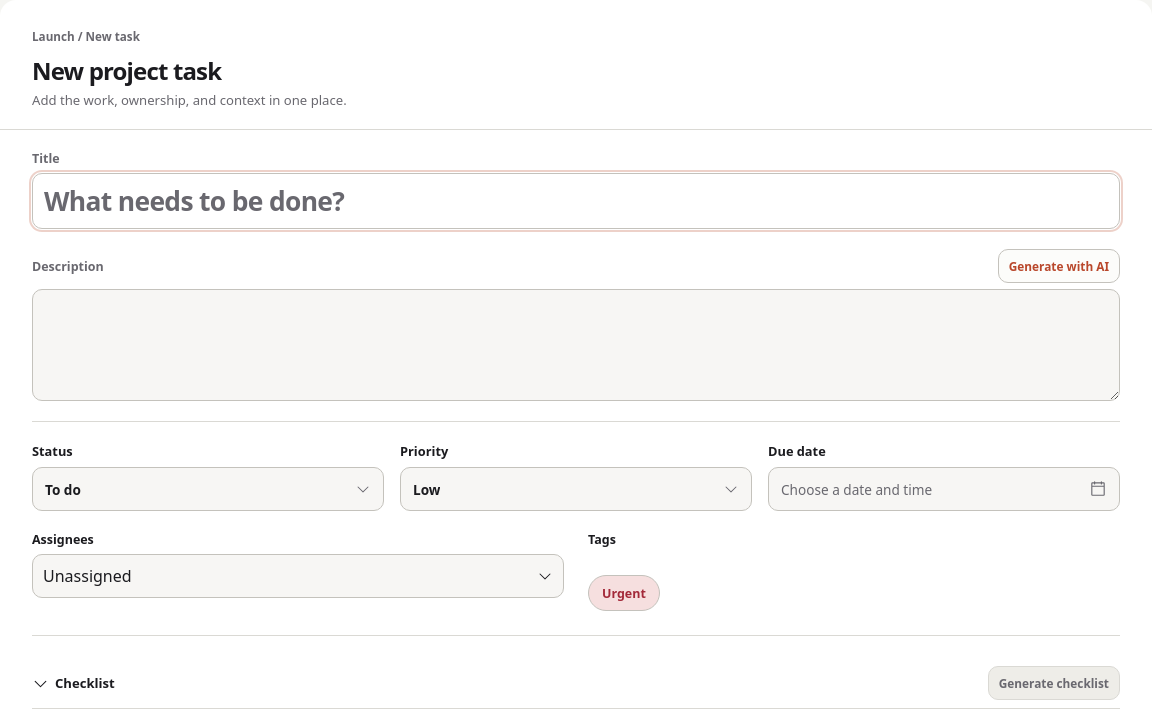
it: asks before replacing generated project-task content
In the field labelled "Title": (576, 201) [32,173,1120,229], type "Write release notes"
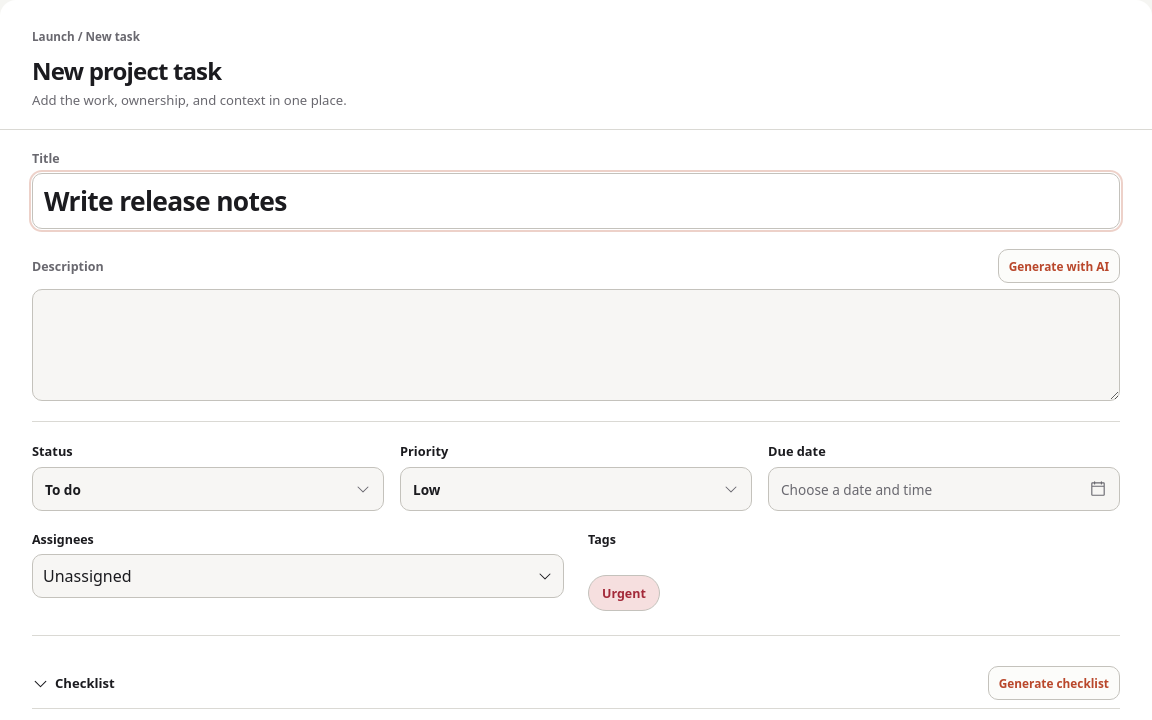
In the text box labelled "Description": (576, 345) [32,289,1120,401], type "Keep this draft"
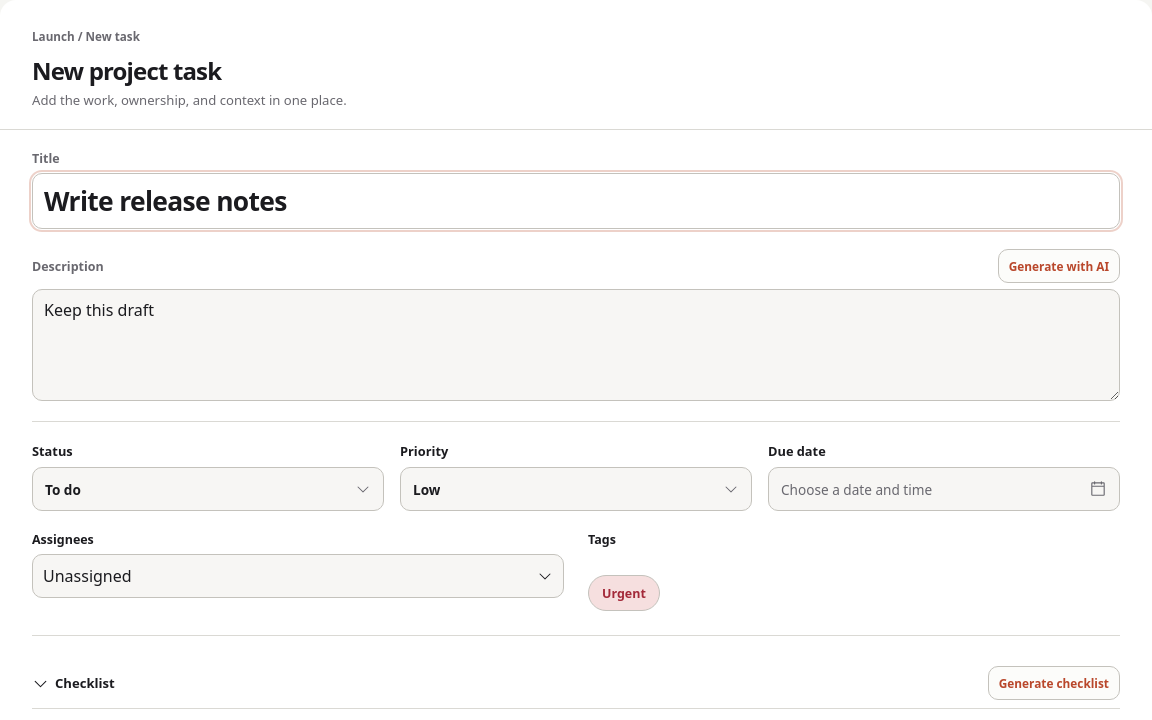
Click the button "Generate with AI": (1059, 266) [998,249,1120,283]
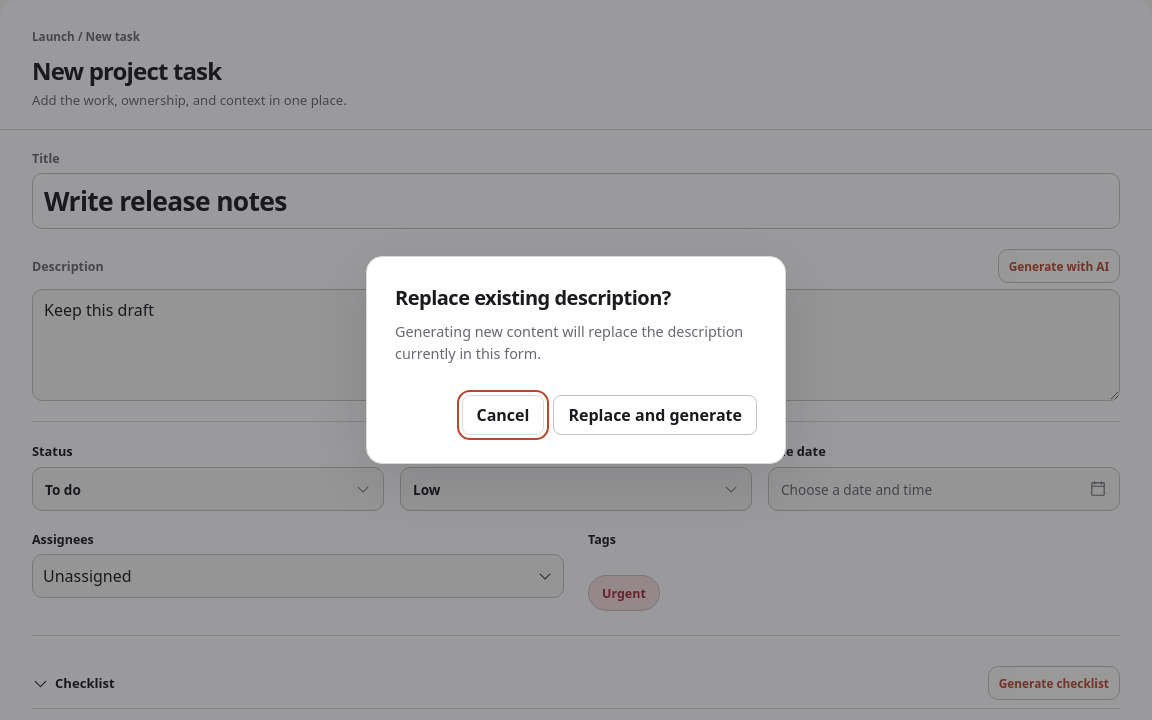
Click the button "Cancel": (503, 415) [462,395,544,435]
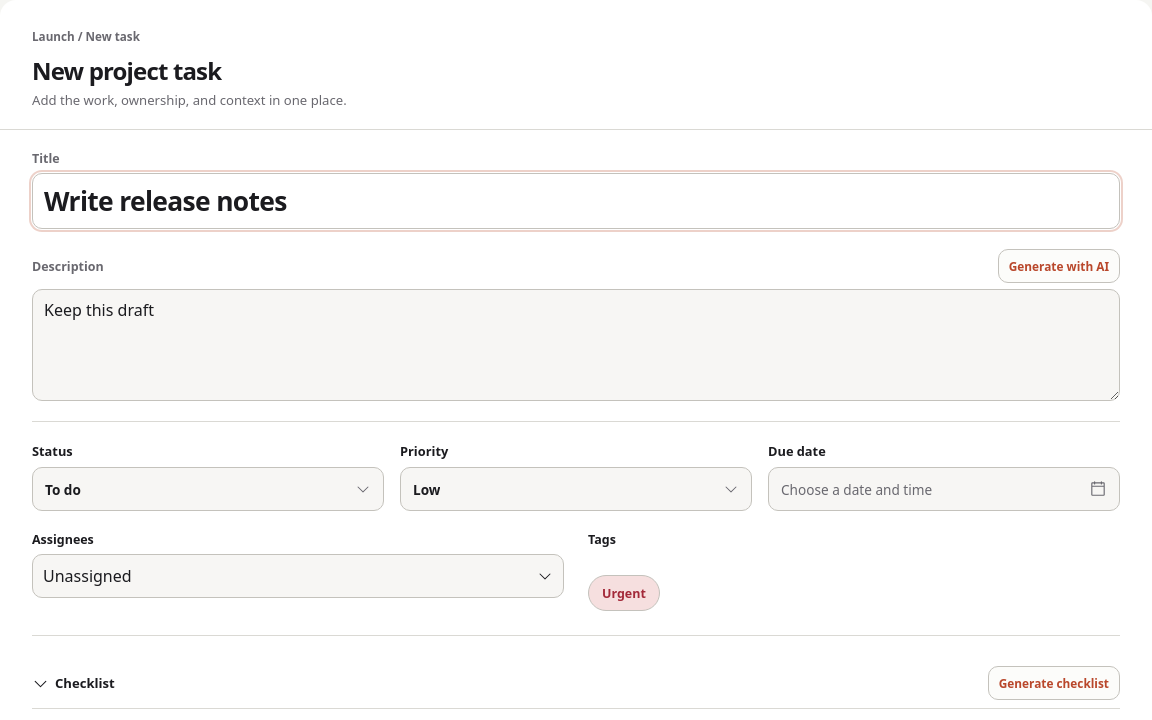
Click the button "Generate with AI": (1059, 266) [998,249,1120,283]
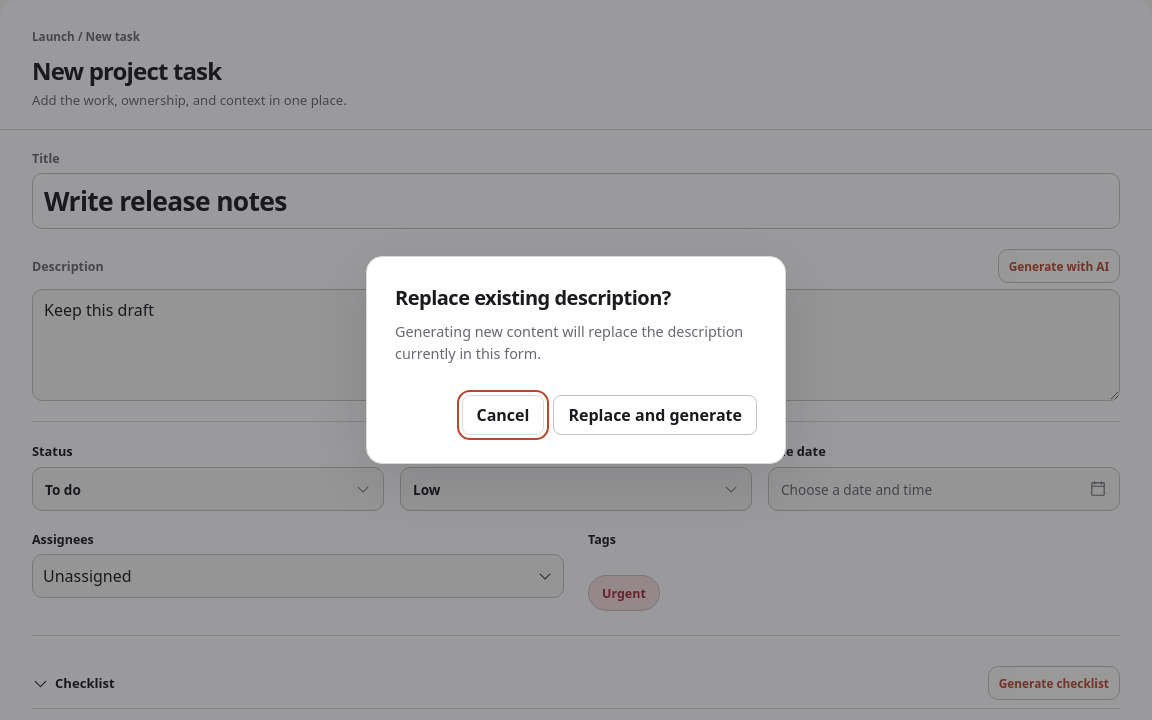
Click the button "Replace and generate": (655, 415) [553,395,757,435]
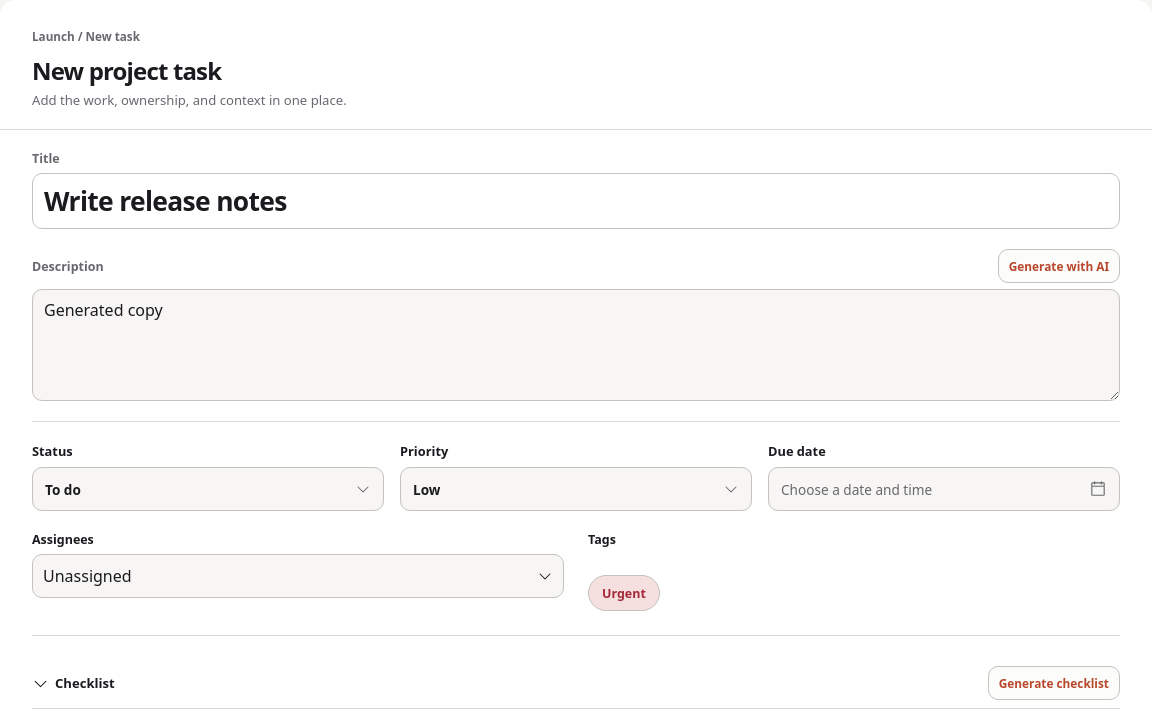
Check: the text box labelled "Description" holds "Generated copy", box [32,289,1120,401]
